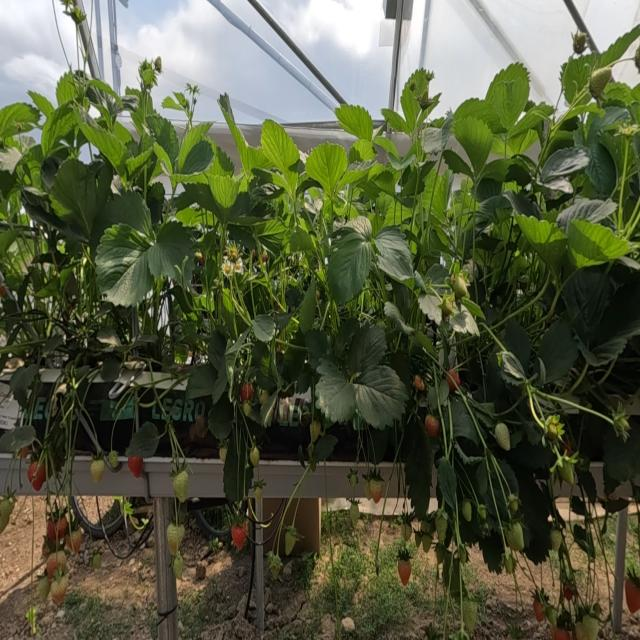Flowers: (222, 255, 234, 278), (228, 245, 238, 260), (235, 258, 243, 273)
Leaves: (95, 224, 153, 306), (218, 93, 270, 181), (89, 190, 152, 257), (51, 159, 97, 238), (328, 226, 372, 305), (355, 366, 408, 429), (591, 280, 640, 348), (515, 470, 550, 564), (563, 270, 614, 334), (567, 219, 630, 268), (477, 457, 517, 533), (573, 130, 617, 199), (144, 221, 192, 283), (261, 120, 300, 195), (514, 216, 567, 269), (161, 138, 214, 188), (405, 421, 432, 519), (603, 421, 640, 492), (315, 360, 357, 422), (80, 120, 127, 174), (538, 319, 578, 382), (401, 68, 439, 132), (453, 116, 494, 174), (306, 143, 348, 199), (343, 324, 387, 377), (539, 148, 589, 193), (41, 97, 77, 156), (223, 433, 253, 503), (374, 226, 413, 279), (557, 197, 617, 230), (491, 79, 529, 130), (598, 25, 640, 67), (442, 396, 479, 443), (178, 123, 212, 173), (335, 105, 373, 149), (562, 55, 596, 103), (489, 63, 529, 103), (0, 103, 40, 141), (208, 173, 239, 222), (147, 115, 179, 161), (503, 319, 531, 370), (579, 337, 627, 366), (421, 112, 452, 155), (126, 421, 160, 459), (254, 218, 287, 255), (209, 392, 233, 440), (186, 363, 217, 398), (504, 190, 541, 219), (455, 100, 496, 126), (373, 133, 403, 167), (384, 301, 414, 335), (437, 456, 456, 508), (381, 108, 414, 137), (341, 159, 379, 184), (305, 329, 329, 367), (299, 281, 316, 333), (449, 306, 479, 335), (335, 318, 359, 354), (56, 71, 77, 107), (28, 91, 54, 119), (418, 294, 441, 324), (313, 435, 337, 462), (252, 315, 275, 343), (345, 216, 372, 237), (387, 151, 412, 170)
Strawberries: (589, 401, 630, 440), (589, 66, 612, 100), (0, 493, 16, 534), (46, 551, 67, 580), (167, 523, 184, 556), (624, 578, 640, 613), (27, 461, 45, 491), (50, 575, 68, 604), (506, 523, 524, 551), (544, 416, 564, 441), (451, 273, 469, 300), (173, 471, 188, 503), (267, 551, 283, 580), (400, 510, 414, 542), (435, 508, 448, 542), (463, 600, 477, 631), (494, 423, 510, 450), (581, 615, 599, 639), (572, 30, 588, 54), (66, 528, 82, 552), (285, 526, 298, 555), (231, 525, 246, 549), (368, 479, 383, 503), (398, 559, 411, 586), (560, 461, 574, 485), (128, 456, 143, 478), (446, 369, 460, 392), (504, 548, 516, 574), (91, 459, 104, 483), (38, 575, 50, 601), (425, 414, 439, 436), (440, 296, 453, 318), (416, 89, 430, 109), (173, 551, 183, 578), (310, 420, 322, 442), (533, 599, 544, 622), (551, 528, 562, 551), (457, 544, 469, 565), (349, 502, 359, 527), (240, 383, 253, 402), (574, 622, 588, 639), (462, 499, 472, 521), (421, 533, 432, 553), (347, 468, 358, 488), (250, 446, 260, 467), (107, 450, 118, 468), (413, 375, 425, 391), (259, 389, 269, 405), (254, 485, 263, 501), (219, 444, 227, 462), (414, 530, 422, 547), (92, 553, 101, 568), (563, 587, 573, 600), (478, 504, 486, 519), (154, 56, 161, 73)
